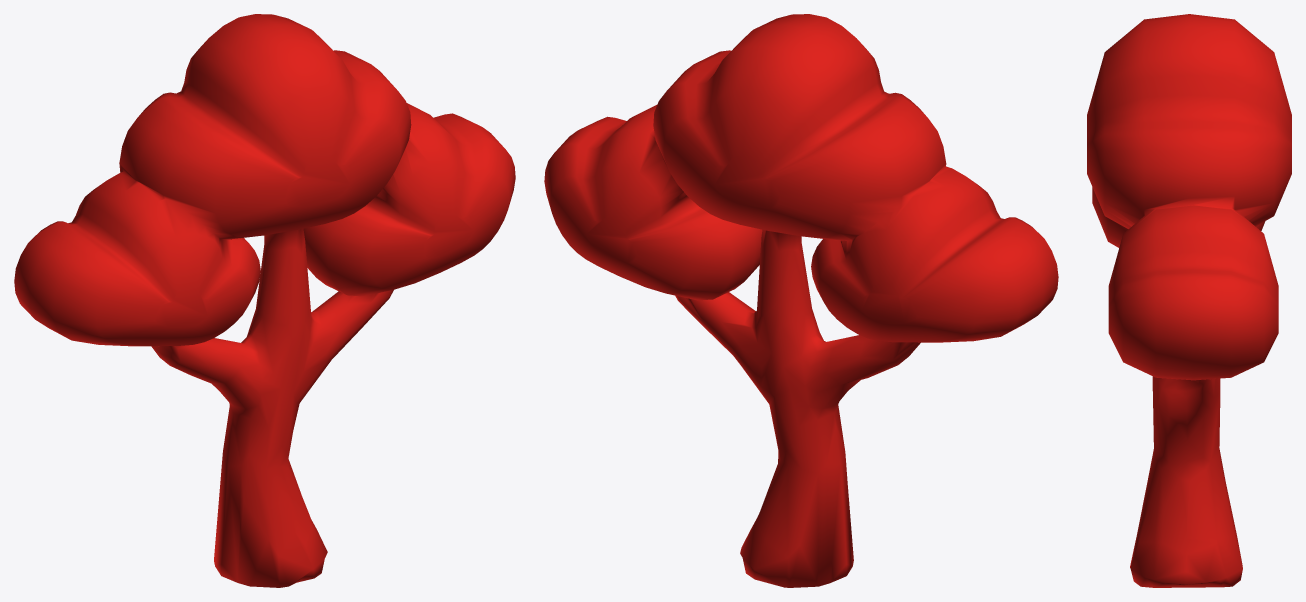
The model's file is gummy_soft.glb.
3 renders of one model, left to right at view 1: azimuth 30°, elevation 25°; view 2: azimuth 150°, elevation 25°; view 3: azimuth 270°, elevation 25°, orthographic. The views are drawn at different scales.
Visible parts, largest first — view 1: Gummy_Soft_Crown; view 2: Gummy_Soft_Crown; view 3: Gummy_Soft_Crown.
Boxes of the visible parts, x1=… form: Gummy_Soft_Crown: x1=14, y1=14, x2=515, y2=587; Gummy_Soft_Crown: x1=544, y1=14, x2=1058, y2=587; Gummy_Soft_Crown: x1=1087, y1=14, x2=1291, y2=587.
Bounding box in the file's own units: 4.08 × 4.38 × 1.48.
